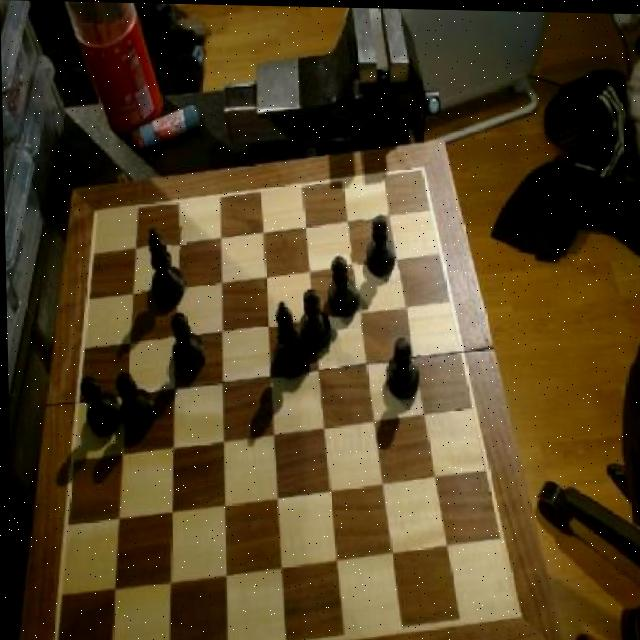bishop: (139, 224, 185, 312), (270, 296, 310, 382)
black-knight: (165, 308, 208, 381), (111, 370, 155, 438), (77, 373, 119, 442), (381, 333, 421, 405), (326, 253, 361, 321), (364, 210, 399, 278), (299, 290, 332, 350)
